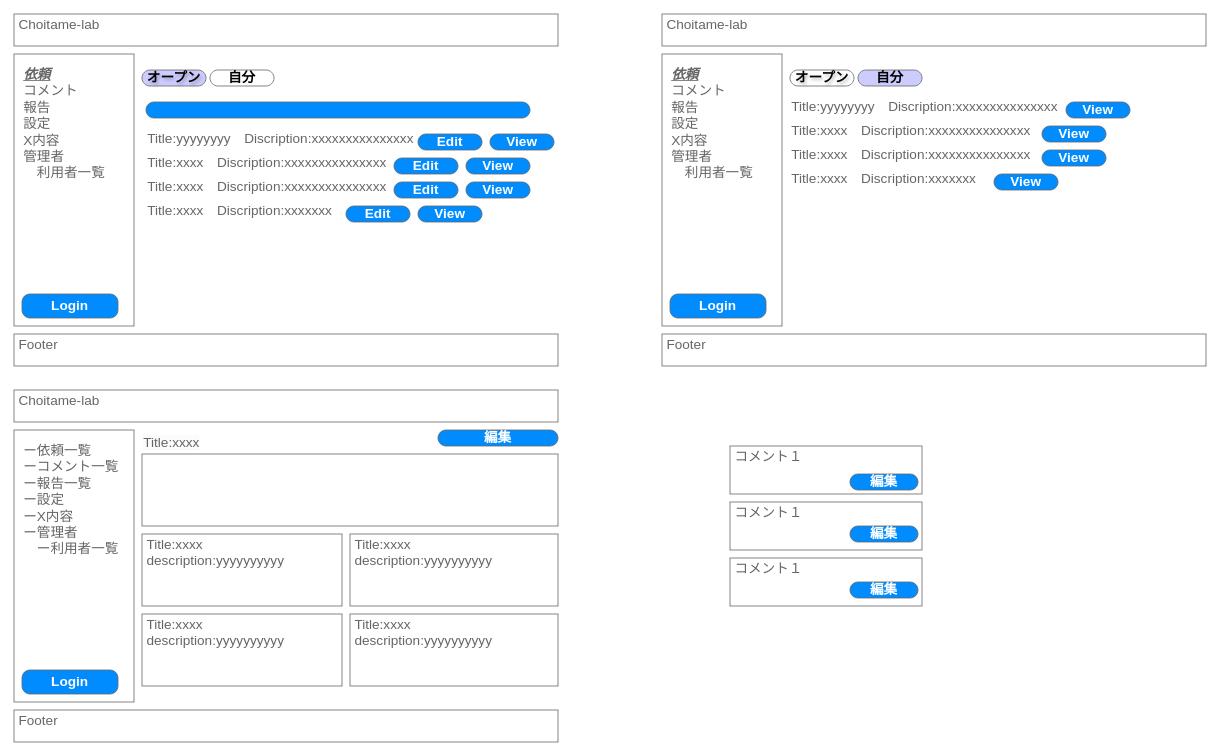
Image size: 1220x756. Some labels were removed from this diagram. Each missing label, with the centre of its shape:
description:yyyyyyyyyy: the point at 349,489
New: the point at 337,109
コメント（ｘｘ件）: the point at 205,695
報告（ｘｘ件）: the point at 401,695
